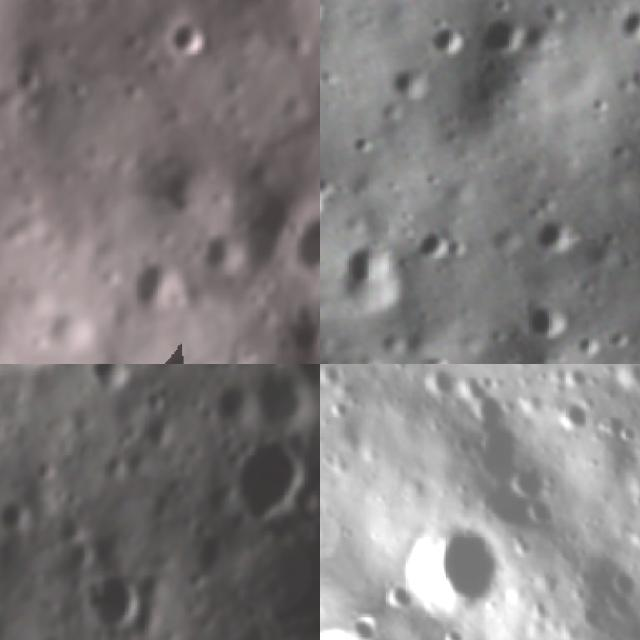crater: (378, 495, 527, 640), (243, 442, 309, 522), (332, 241, 402, 316), (126, 250, 192, 318), (456, 378, 523, 443), (191, 219, 252, 276), (95, 570, 152, 629), (286, 194, 320, 288), (549, 388, 602, 442), (498, 455, 551, 508), (518, 490, 570, 542), (597, 555, 640, 615), (477, 11, 526, 62), (390, 60, 444, 103), (282, 299, 320, 360), (160, 15, 212, 58), (418, 364, 467, 409), (428, 17, 474, 62), (536, 216, 582, 258), (522, 304, 568, 344), (380, 579, 422, 622), (409, 228, 449, 268), (611, 9, 640, 46), (574, 333, 606, 364), (320, 171, 334, 236), (147, 420, 182, 446), (91, 364, 134, 384), (438, 620, 478, 640), (442, 239, 475, 263), (539, 0, 574, 22), (351, 133, 377, 158), (320, 0, 336, 33), (38, 459, 65, 478), (149, 384, 172, 406), (68, 522, 96, 540), (632, 184, 640, 221)
